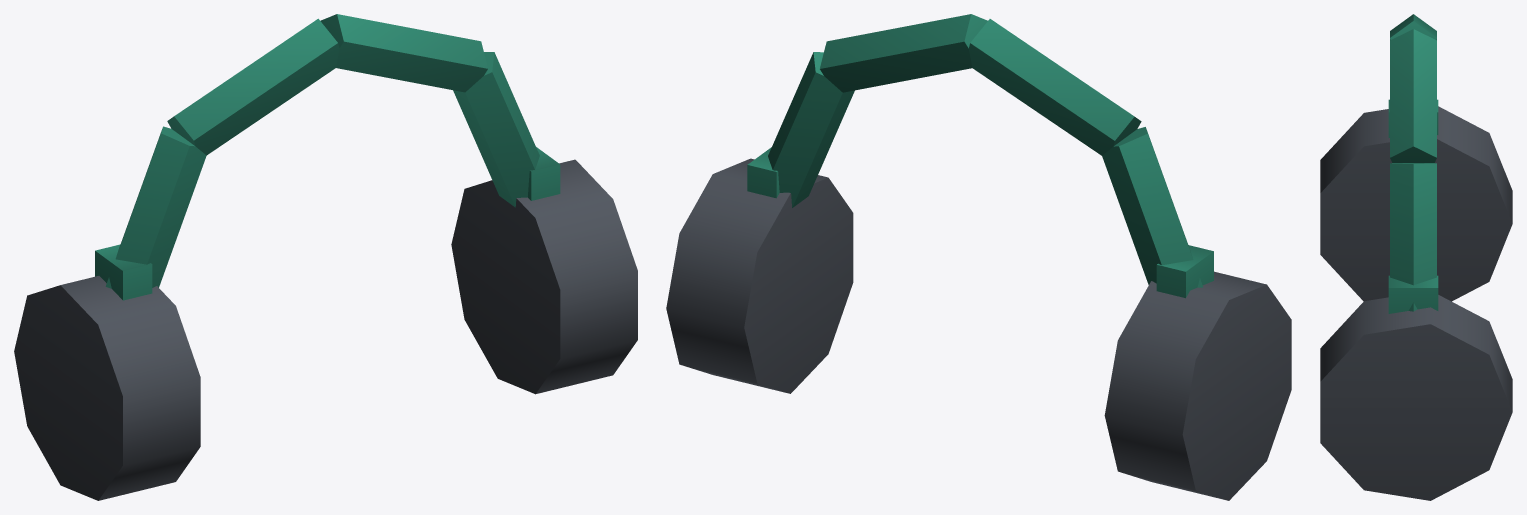
Rendered from dt_headphones.fbx.
3 views of the same model, side by side, from view 1: azimuth 30°, elevation 25°; view 2: azimuth 150°, elevation 25°; view 3: azimuth 270°, elevation 25° (orthographic). The views are drawn at different scales.
Visible parts, largest first — view 1: dt_headphones; view 2: dt_headphones; view 3: dt_headphones.
Boxes of the visible parts, <box> form: dt_headphones: <box>14,14,637,500</box>; dt_headphones: <box>666,14,1291,500</box>; dt_headphones: <box>1320,14,1512,500</box>.
Size of the model in its own units: 100 by 76.71 by 36.6.
